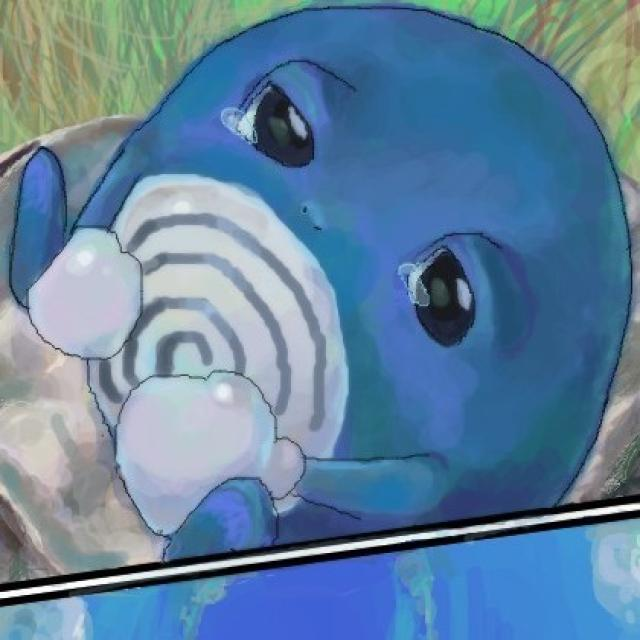Poliwhirl: (38, 16, 594, 519)
